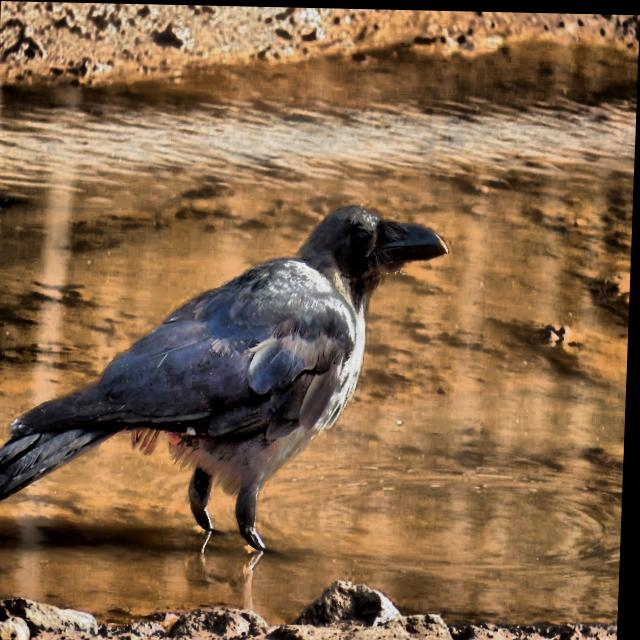crow: (0, 167, 461, 581)
